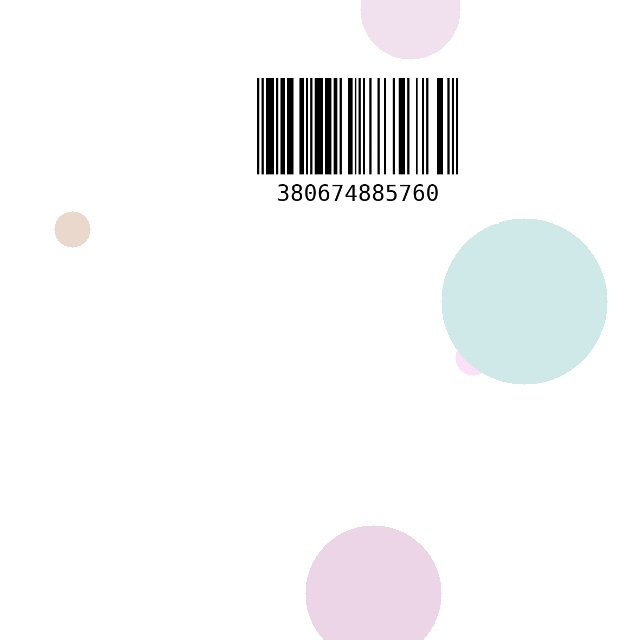barcode: (216, 72, 499, 224)
